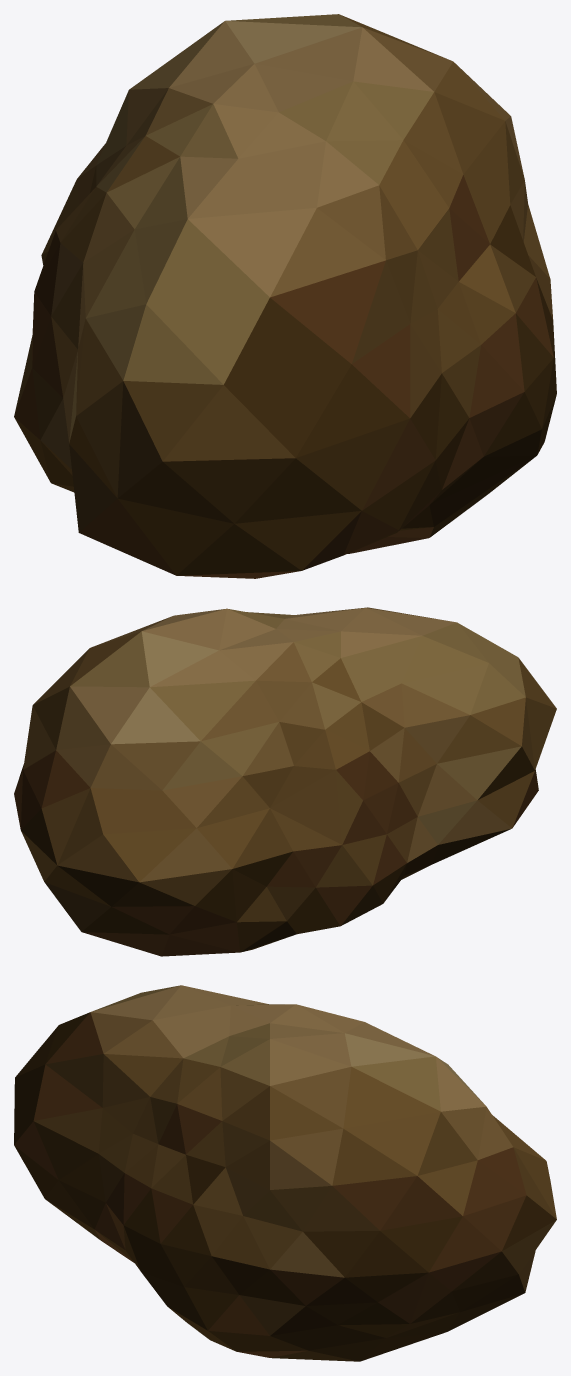
The model's file is flying_stone_b.glb.
The picture shows the model from 3 angles, top to bottom: view 1: azimuth 30°, elevation 25°; view 2: azimuth 150°, elevation 25°; view 3: azimuth 270°, elevation 25°; orthographic projection. The views are drawn at different scales.
Visible parts, largest first — view 1: stone; view 2: stone; view 3: stone.
Boxes of the visible parts, x1=… form: stone: x1=14, y1=14, x2=556, y2=578; stone: x1=14, y1=607, x2=556, y2=956; stone: x1=14, y1=985, x2=556, y2=1361.
Bounding box in the file's own units: 8.93 × 6.62 × 10.67.
